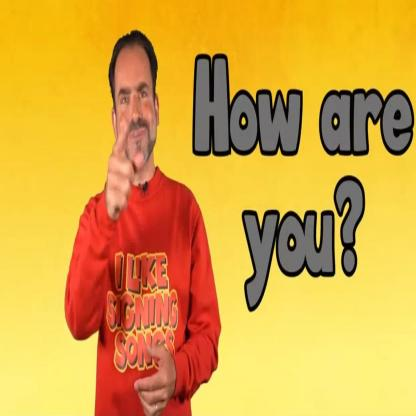HowAreYou: (95, 115, 182, 416)
